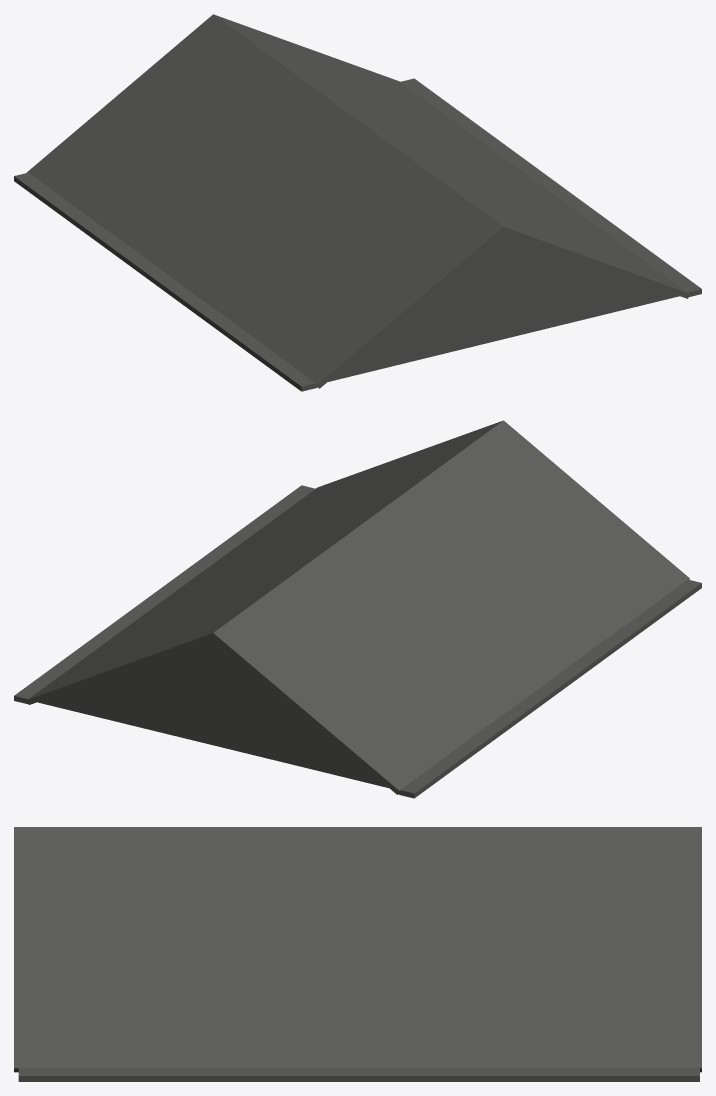
File: Roof.fbx
The picture shows the model from 3 angles, top to bottom: view 1: azimuth 30°, elevation 25°; view 2: azimuth 150°, elevation 25°; view 3: azimuth 270°, elevation 25°; orthographic projection. The views are drawn at different scales.
Visible parts, largest first — view 1: Tető; view 2: Tető; view 3: Tető.
Boxes of the visible parts, x1=… form: Tető: x1=14, y1=14, x2=701, y2=391; Tető: x1=14, y1=420, x2=701, y2=798; Tető: x1=14, y1=827, x2=701, y2=1081.
Size of the model in its own units: 13971 by 3915 by 17555.
2 materials, 1 textured.
